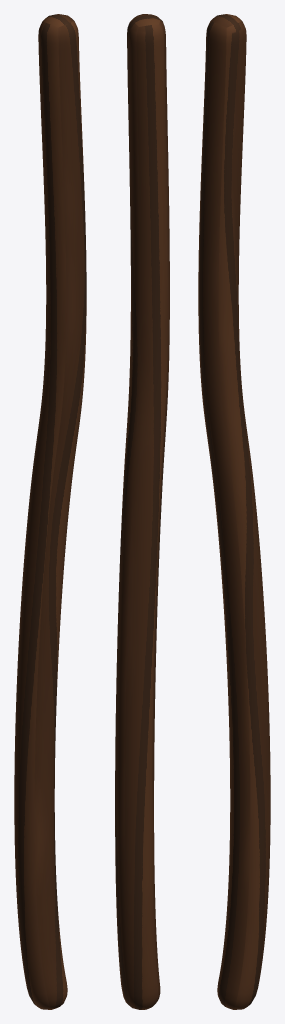
The model's file is staff.obj.
3 views of the same model, side by side, from view 1: azimuth 90°, elevation 25°; view 2: azimuth 150°, elevation 25°; view 3: azimuth 270°, elevation 25° (orthographic).
Parts seen in each view (by area): view 1: Staff_Mesh; view 2: Staff_Mesh; view 3: Staff_Mesh.
Boxes of the visible parts, x1,y1,x2,y2 form: Staff_Mesh: (14, 14, 86, 1009); Staff_Mesh: (115, 14, 169, 1009); Staff_Mesh: (198, 14, 270, 1009).
Bounding box in the file's own units: 0.0825 × 2.23 × 0.1474.
1 material, 1 textured.
